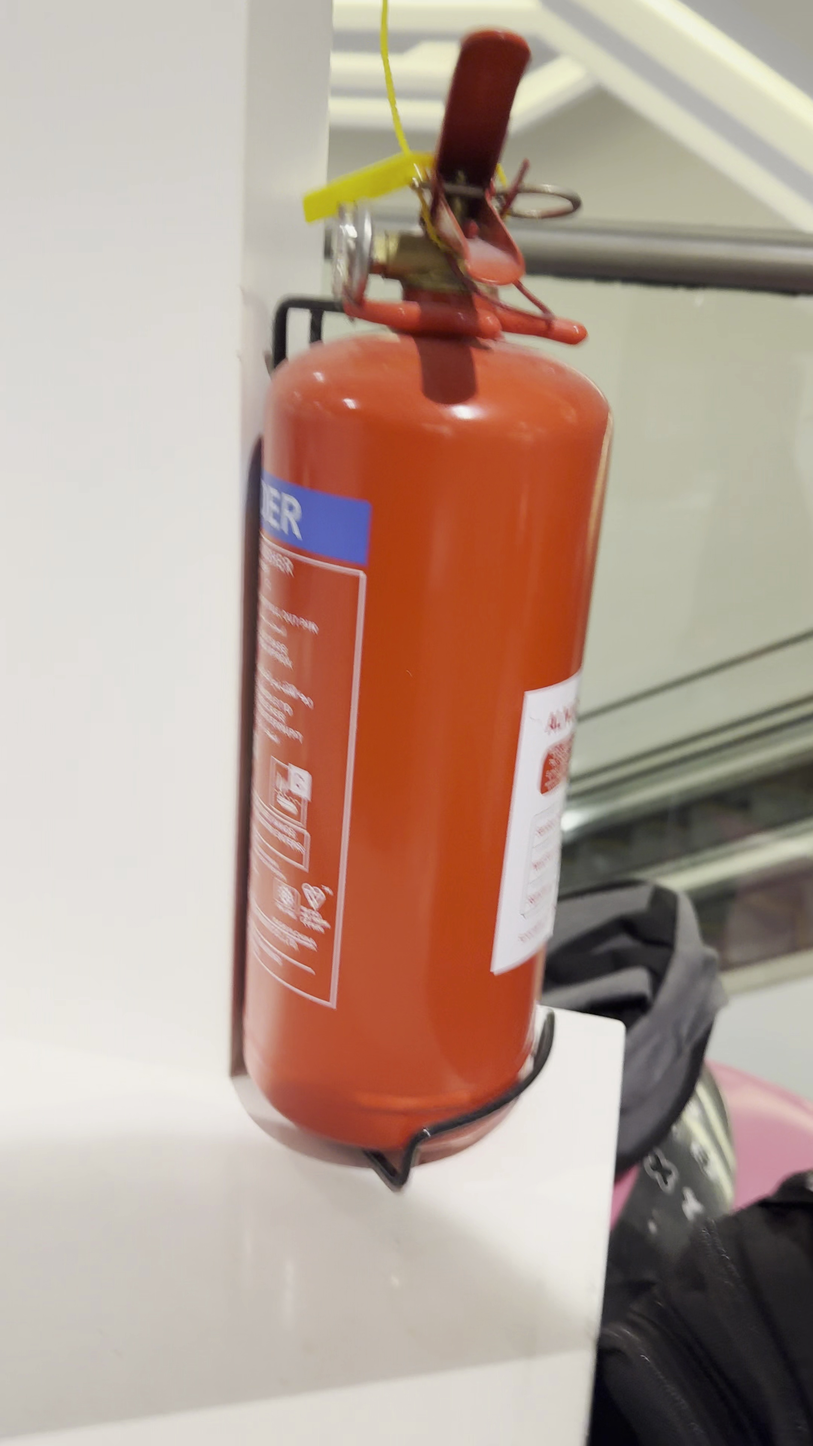fire_extinguisher: (230, 11, 615, 1190)
